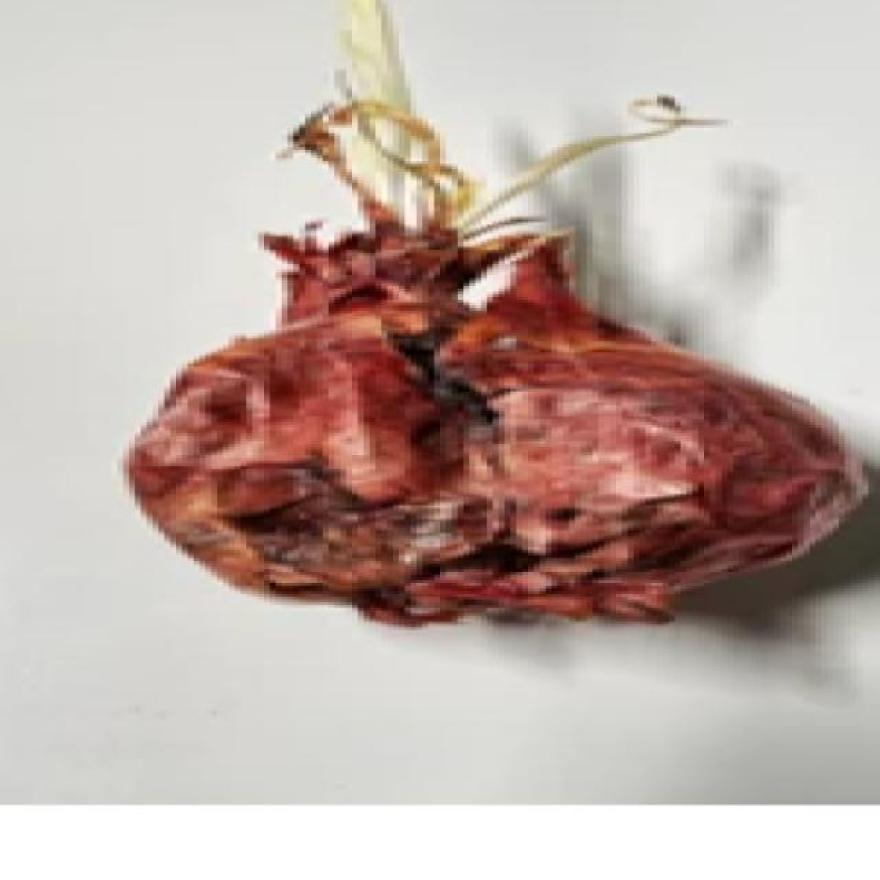Rotten: (234, 286, 728, 605)
